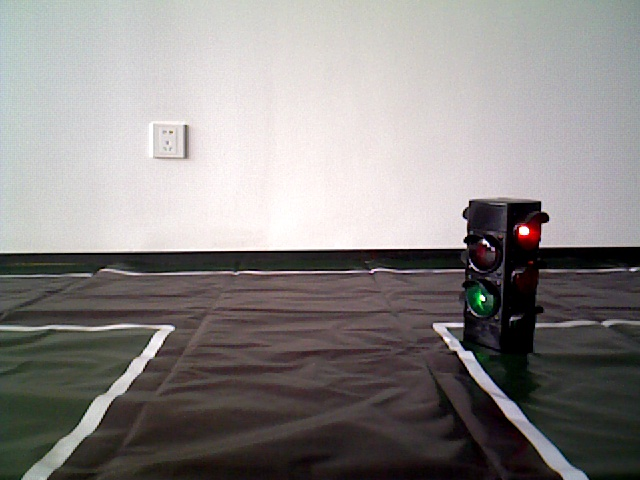red: (466, 208, 539, 354)
